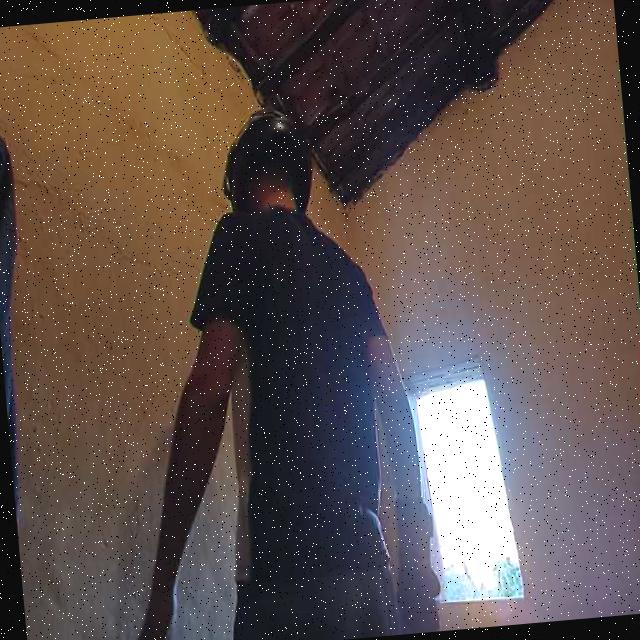capacete: (205, 101, 321, 228)
pessoa: (106, 89, 449, 640)
